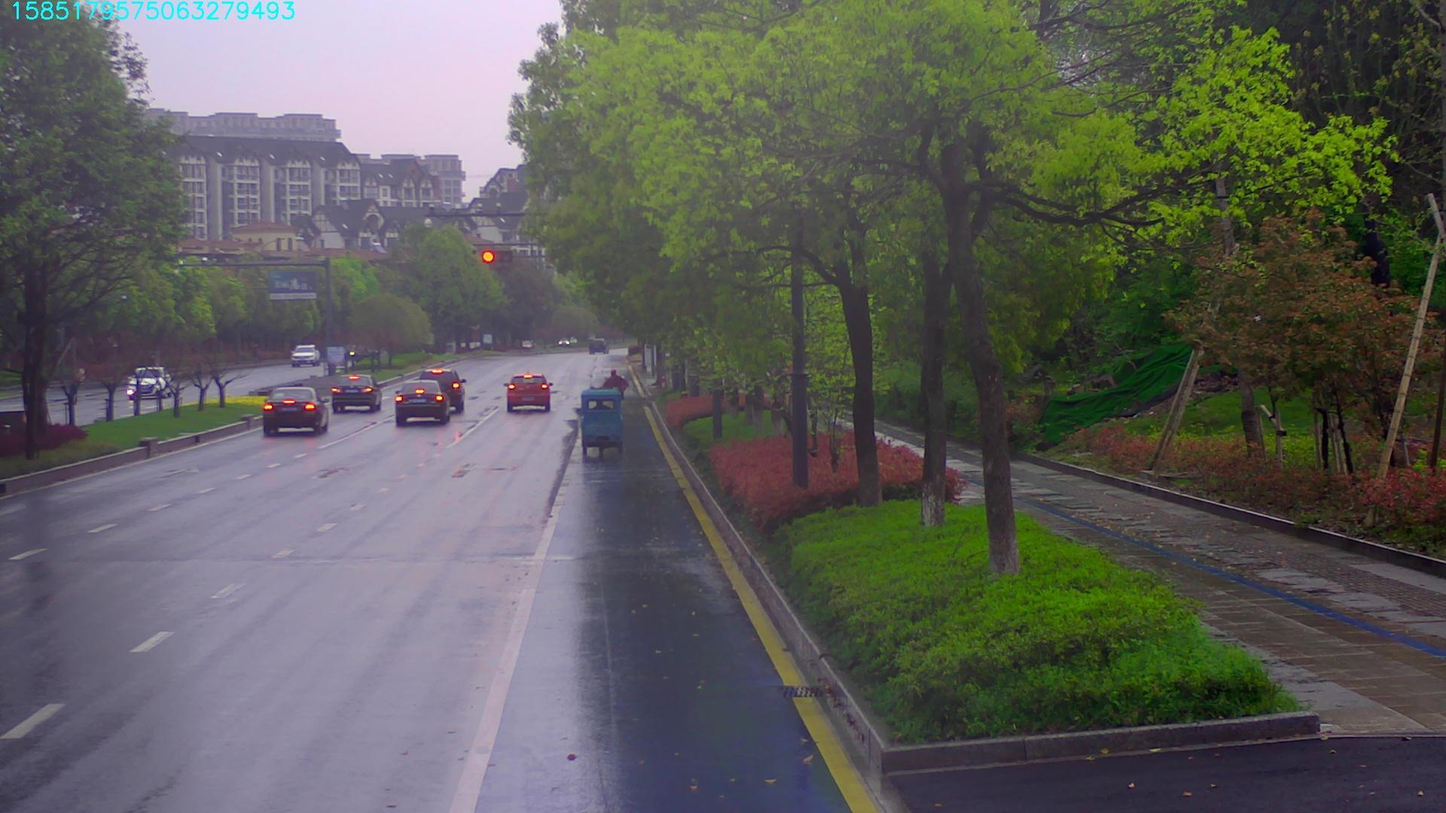red: (479, 248, 516, 263)
